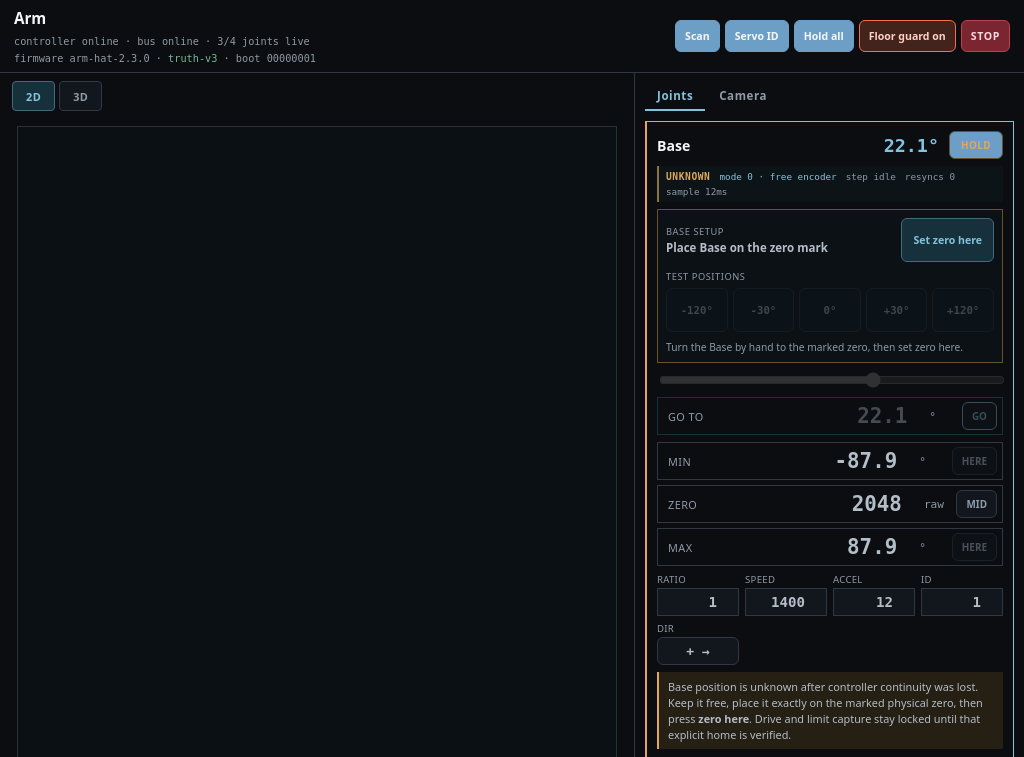
Test: SimpleArm › does not let an older untrusted poll erase a successful Base-zero response
The width and height of the screenshot is (1024, 757).
Expected: the text "Base position is unknown" is shown, 668,679 -> 983,726
Click the button with aria-label "Set Base zero here". click: (948, 240)
box: 901,218 -> 994,262
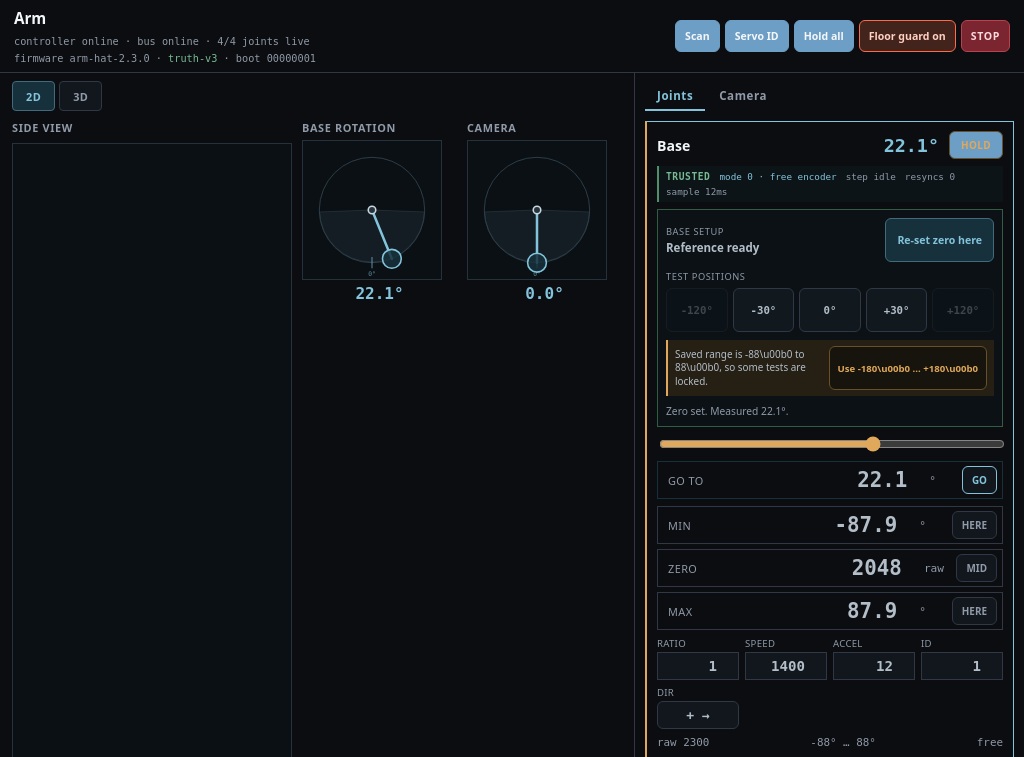
Result: the text "Reference ready" is shown at 666,240 -> 759,255
